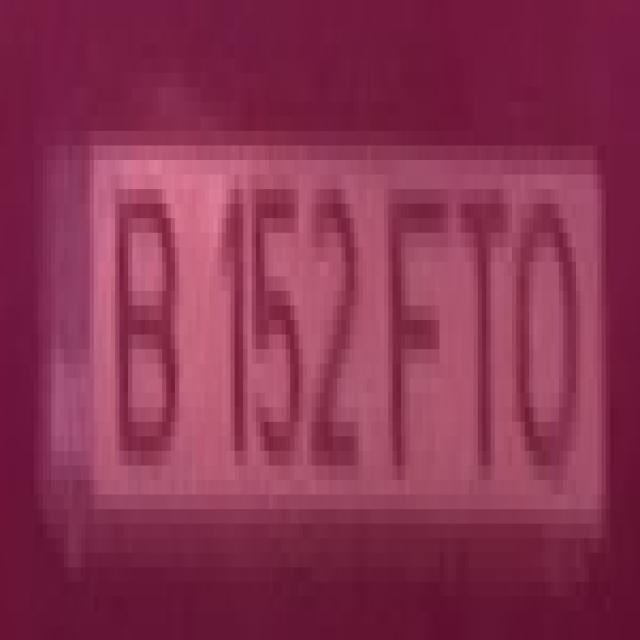Autre: (31, 123, 614, 565)
